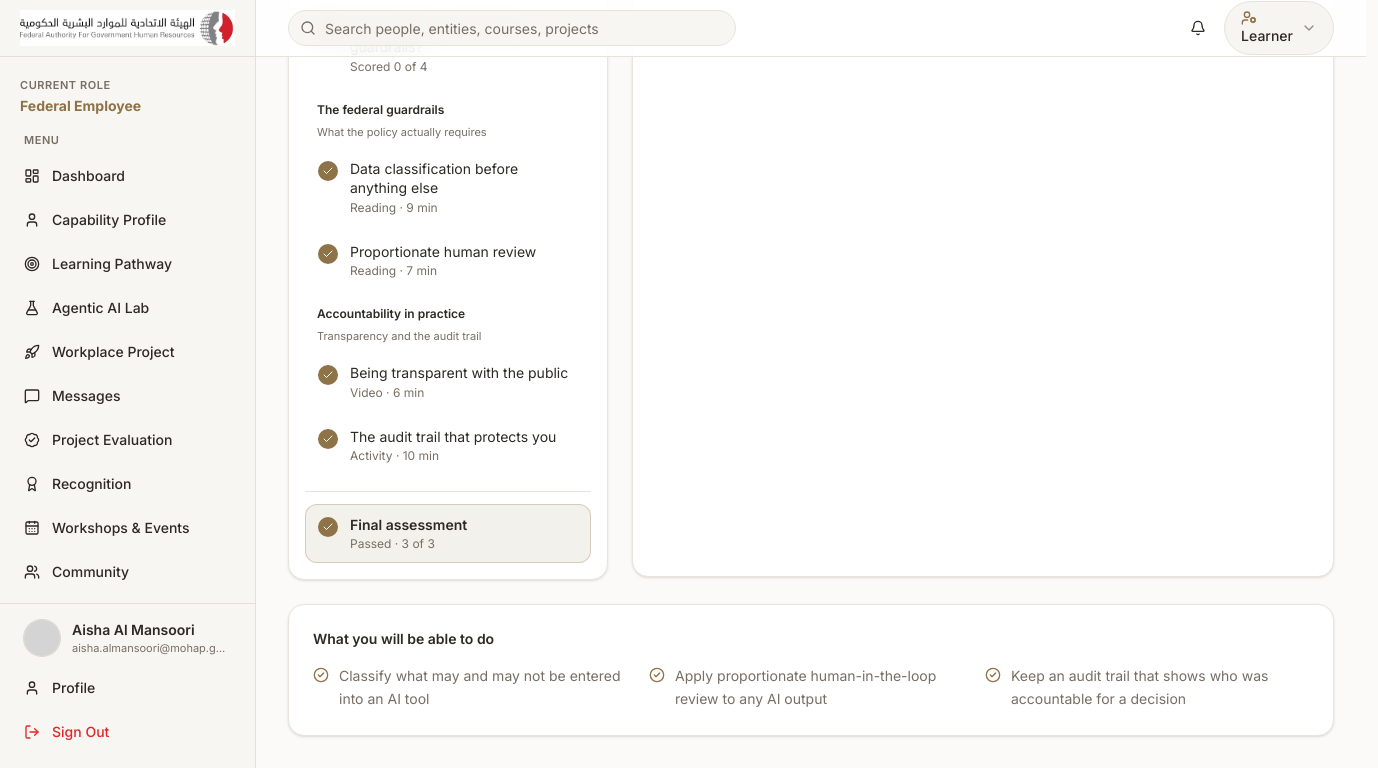
Test: saved course quiz results › the passed final assessment shows its score and review once the course is complete
(page scrolled)
Click the button with test id "outline-final": {"x": 448, "y": 533} [305,504,591,563]
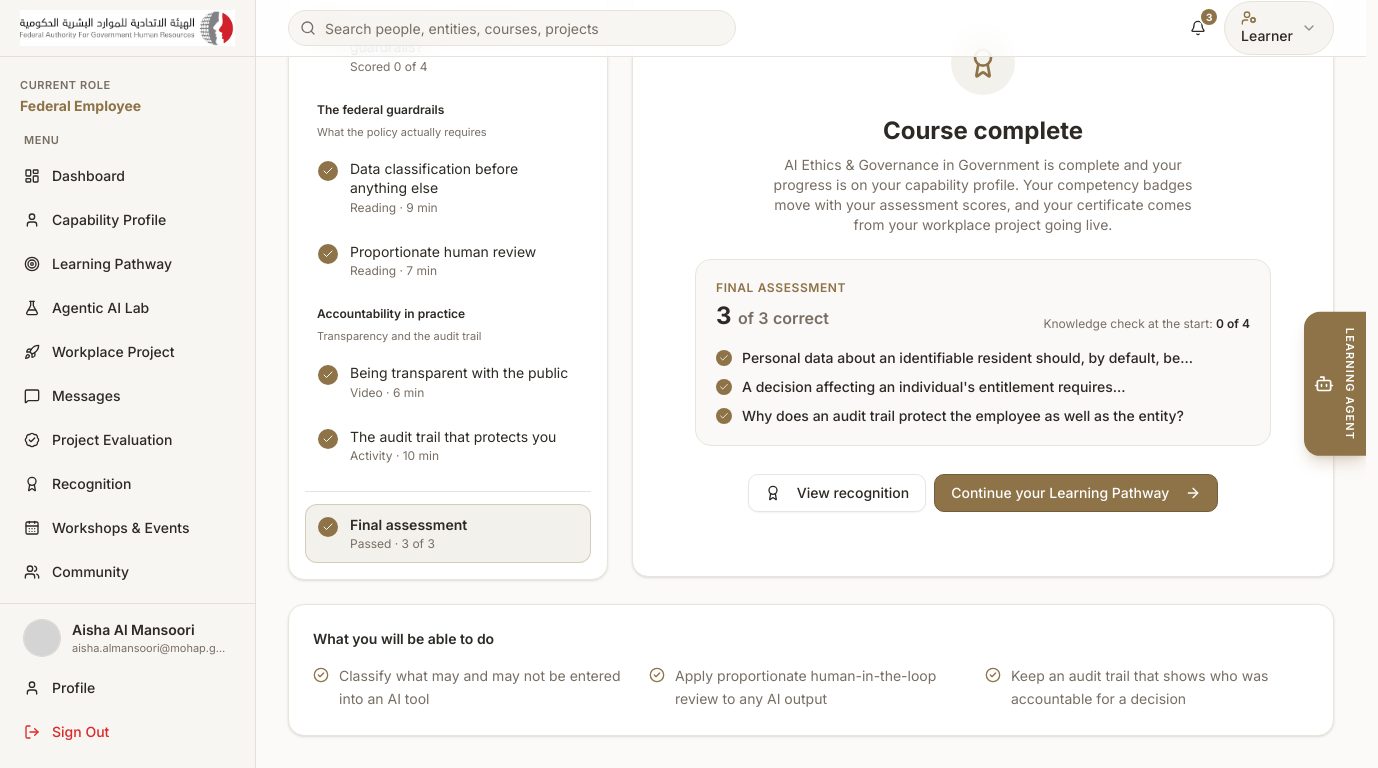
Expected: the element with test id "final-result" shows "Knowledge check at the start", [1043,316,1213,330]
